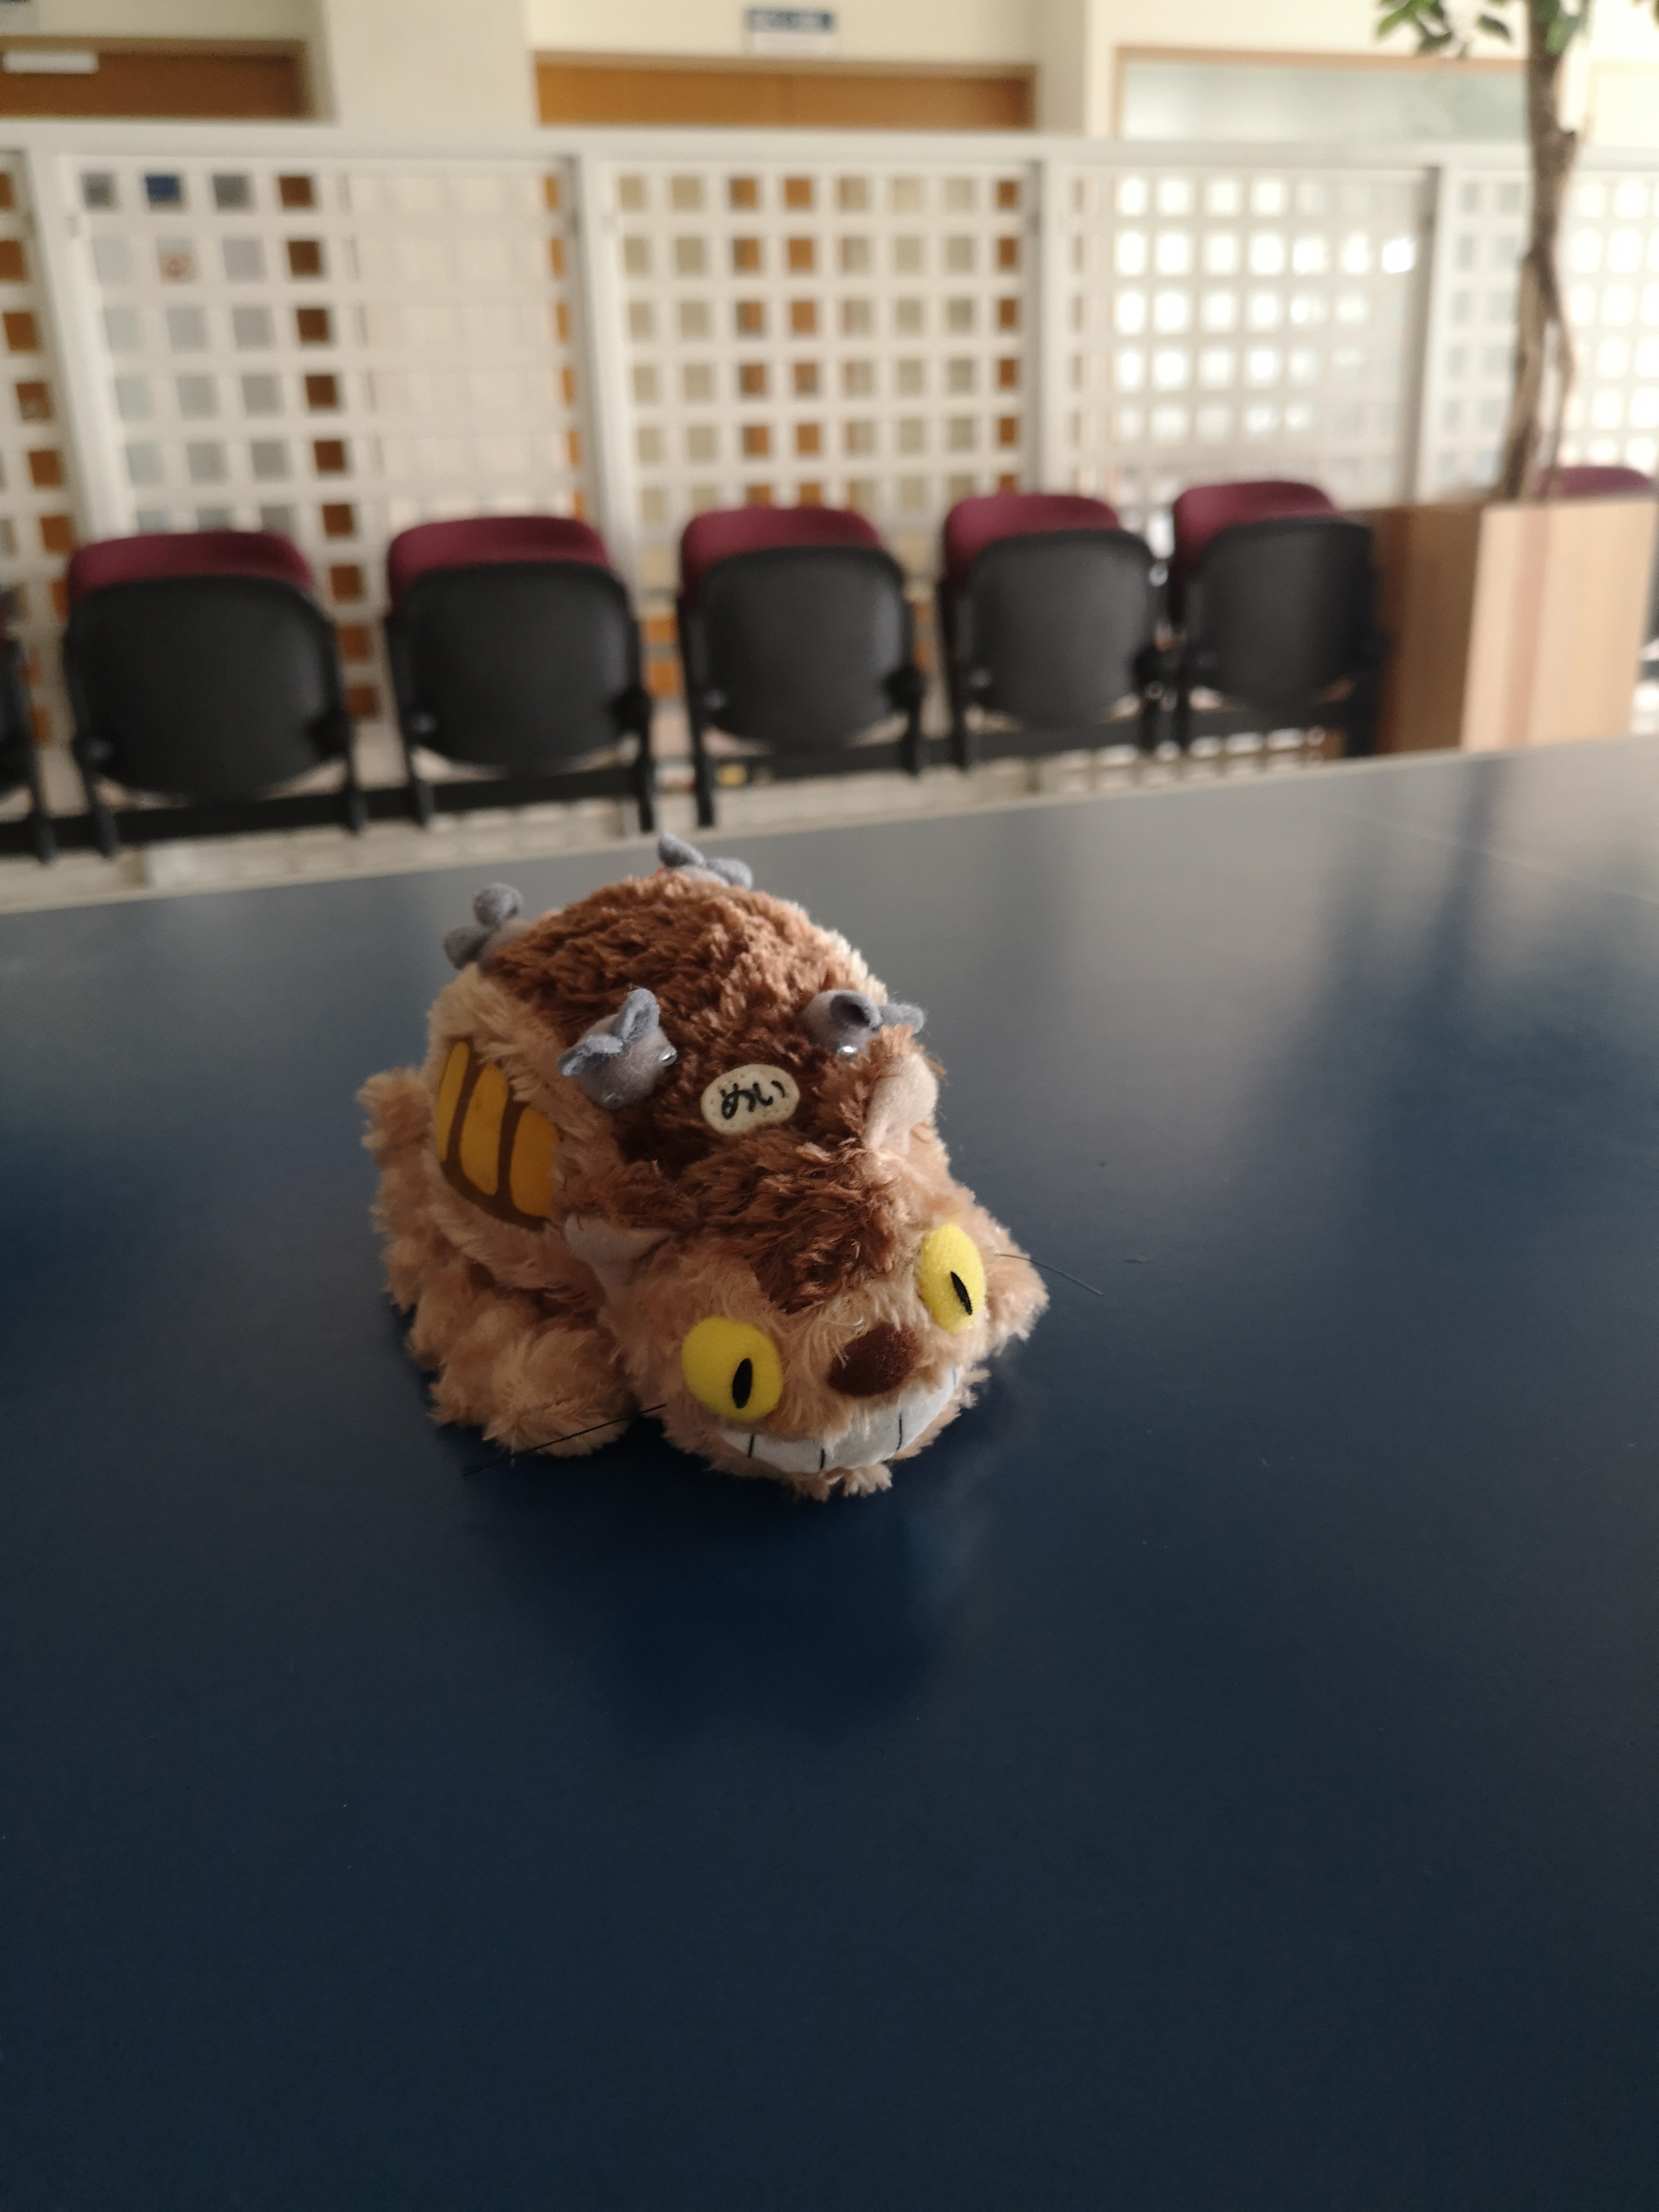nekobus: (340, 827, 1063, 1524)
